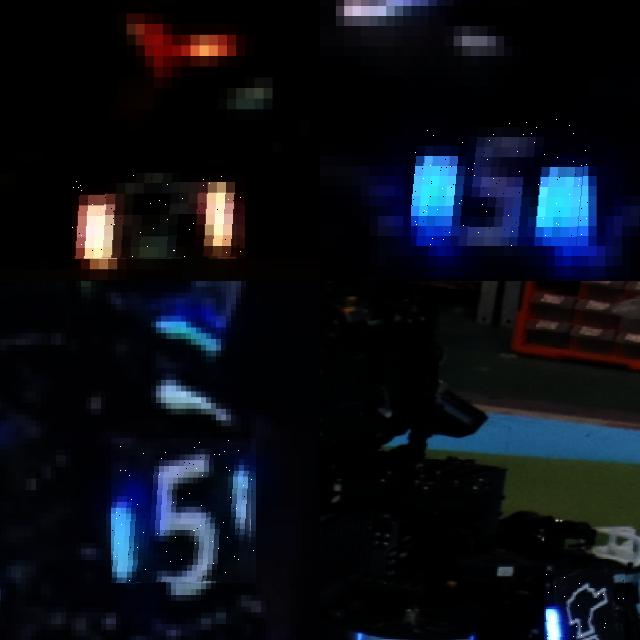B5: (411, 116, 589, 246), (111, 438, 256, 583)
Bs: (544, 569, 625, 640)
Rs: (72, 173, 245, 259)
